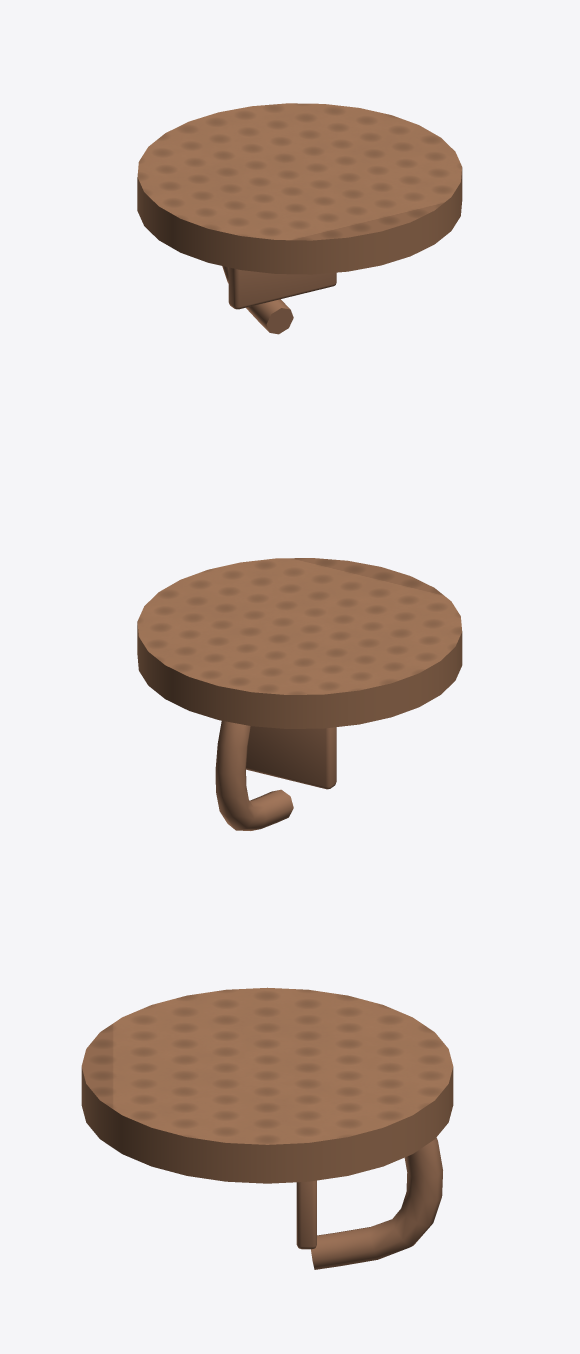
The model's file is pf_marker_clip.glb.
3 renders of one model, top to bottom at view 1: azimuth 30°, elevation 25°; view 2: azimuth 150°, elevation 25°; view 3: azimuth 270°, elevation 25°, orthographic. The views are drawn at different scales.
Visible parts, largest first — view 1: pf_marker_clip_body; view 2: pf_marker_clip_body; view 3: pf_marker_clip_body.
Boxes of the visible parts, x1,y1,x2,y2 form: pf_marker_clip_body: [137, 103, 462, 334]; pf_marker_clip_body: [137, 558, 462, 830]; pf_marker_clip_body: [81, 987, 453, 1269].
Bounding box in the file's own units: 0.0363 × 0.0226 × 0.049.
3 materials, 1 textured.
